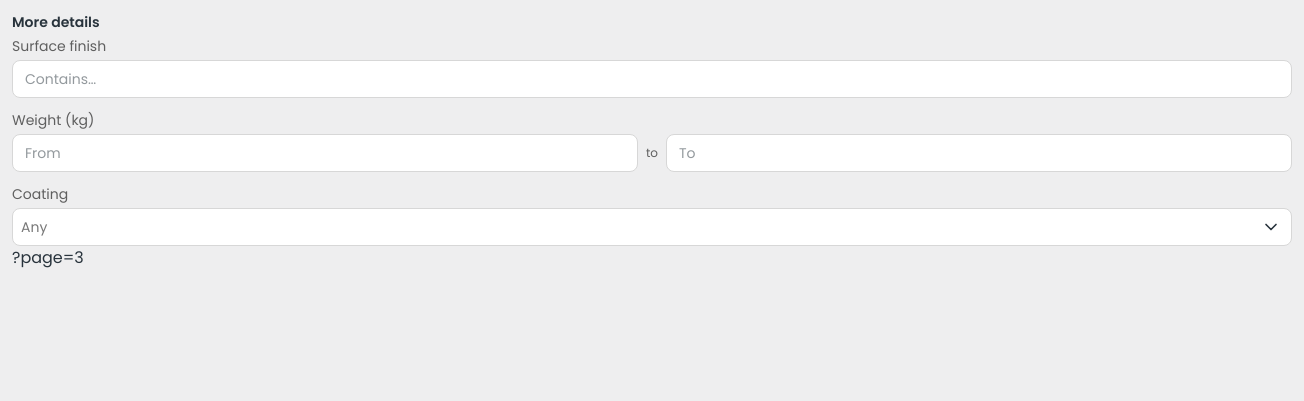
Scenario: custom field filters › puts each filter in the address as cf_<key>
Type "Ra" into the field labelled "Surface finish" at (652,79), box x1=12 y1=60 x2=1292 y2=98
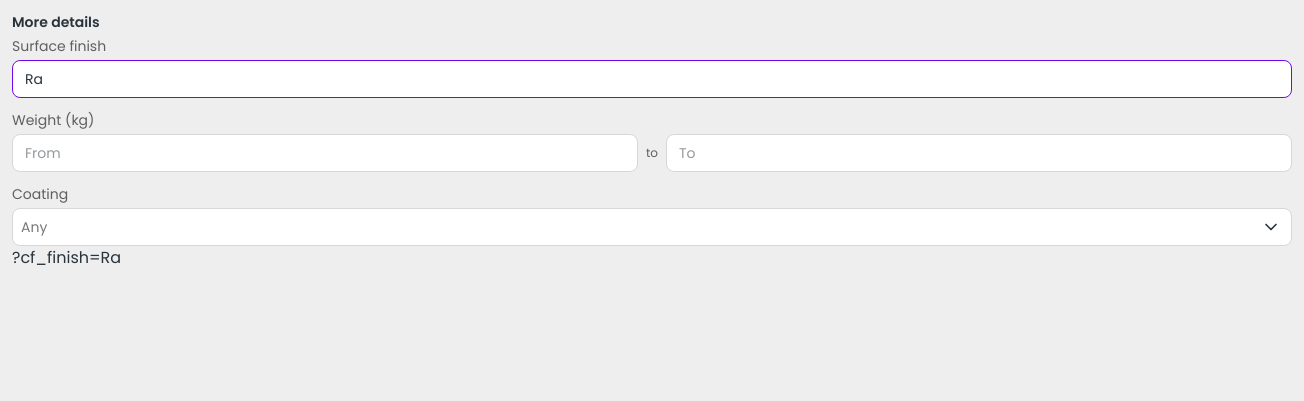
Result: the text with test id "where" shows "cf_finish=Ra" at x1=12 y1=246 x2=121 y2=269
Result: the text with test id "where" no longer shows "page=3" at x1=12 y1=246 x2=121 y2=269
Type "5" into the field named "Weight from" at (325,153), box x1=12 y1=134 x2=638 y2=172
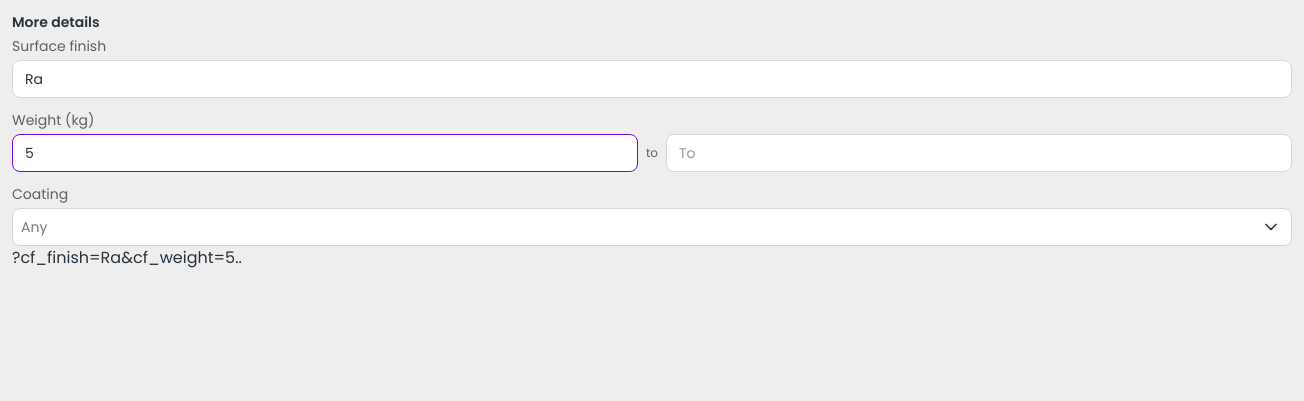
Result: the text with test id "where" shows "cf_weight=5.." at x1=12 y1=246 x2=242 y2=269
Click the dropdown labelled "Coating" at (634,227), box x1=21 y1=216 x2=1247 y2=238
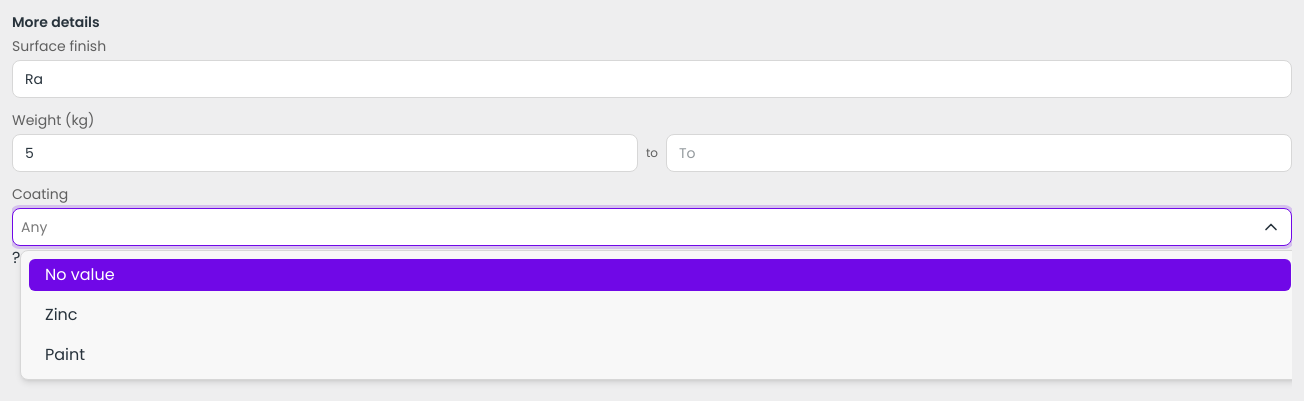
Click the option "Paint" at (65,354), box x1=45 y1=343 x2=85 y2=366
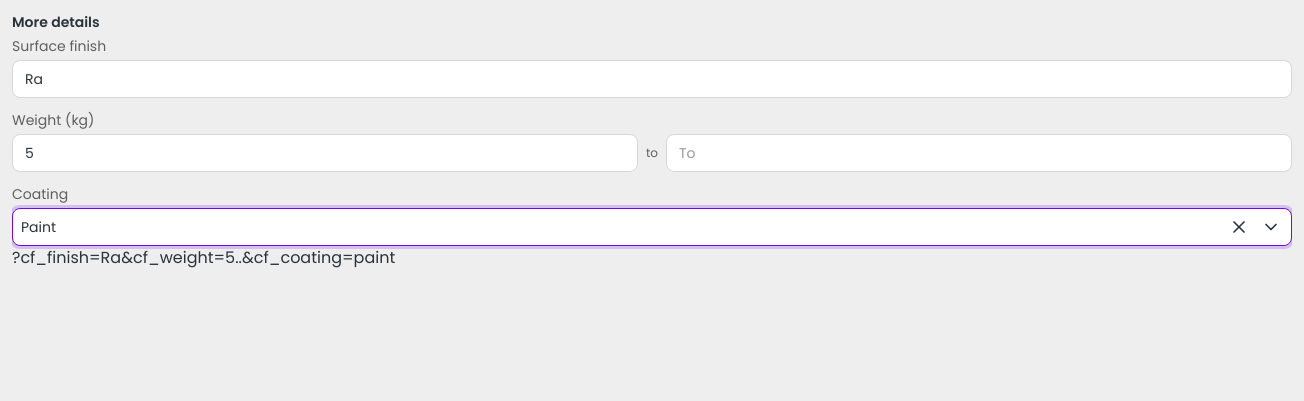
Result: the text with test id "where" shows "cf_coating=paint" at x1=12 y1=246 x2=395 y2=269
